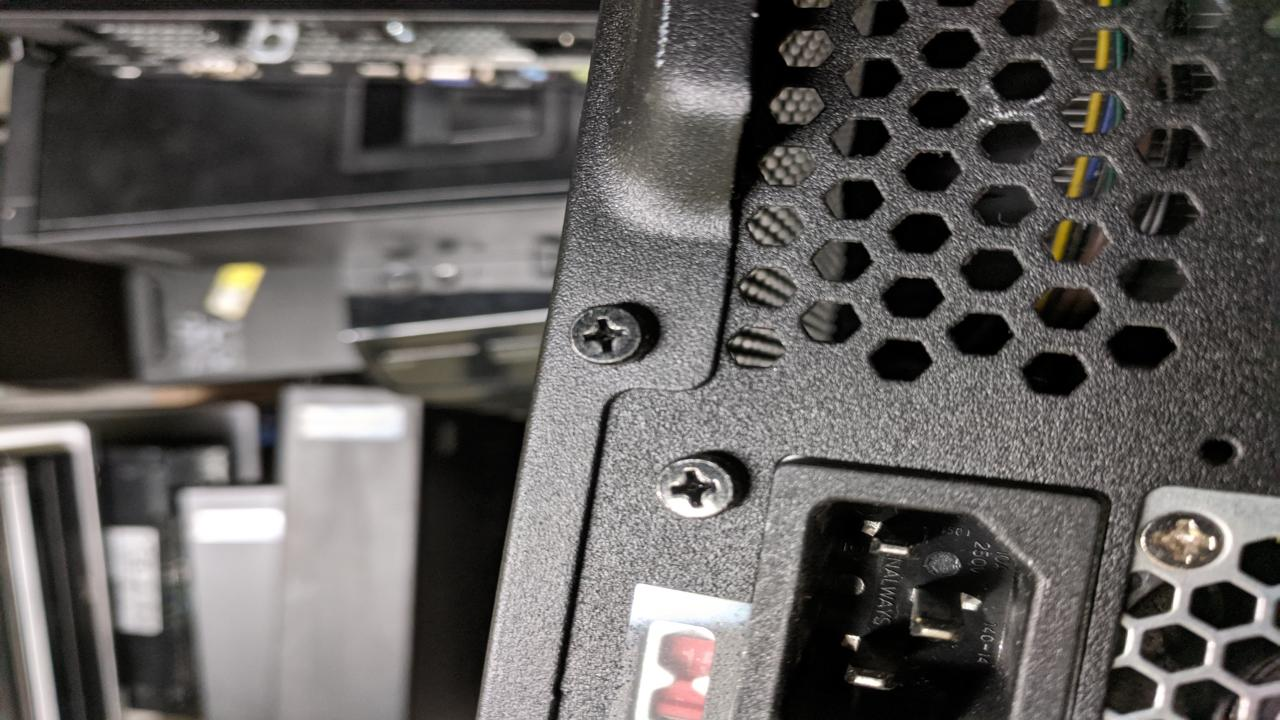CRS: (1142, 507, 1229, 572), (654, 457, 737, 518), (571, 305, 652, 363)
